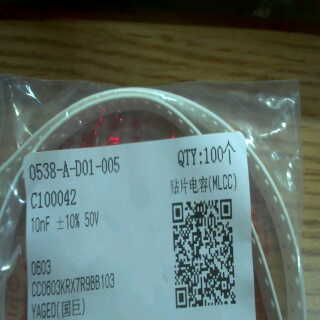10nF: (29, 212, 56, 234)
